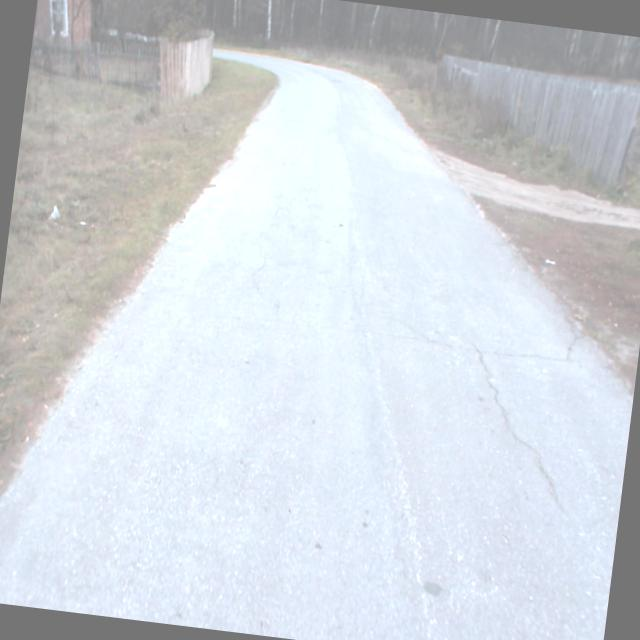road: (0, 47, 634, 640)
